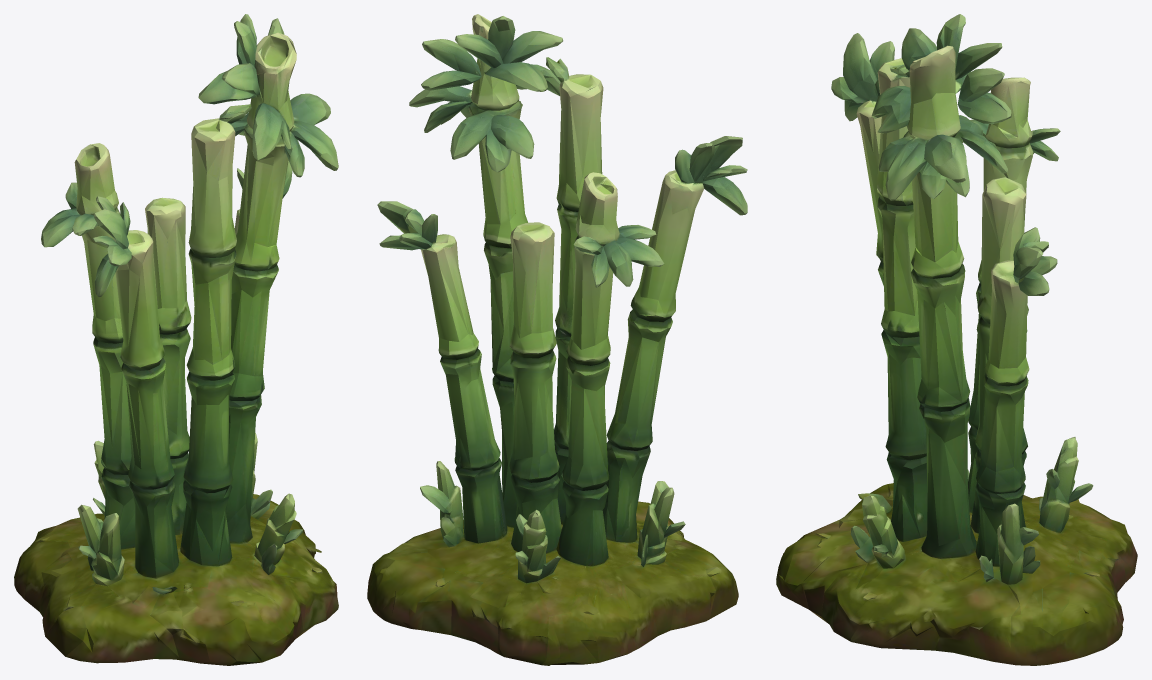
Rendered from bamboo.fbx.
3 views of the same model, side by side, from view 1: azimuth 30°, elevation 25°; view 2: azimuth 150°, elevation 25°; view 3: azimuth 270°, elevation 25° (orthographic). The views are drawn at different scales.
Visible parts, largest first — view 1: bamboo; view 2: bamboo; view 3: bamboo.
Boxes of the visible parts, x1,y1,x2,y2 form: bamboo: (14,14,338,665); bamboo: (367,14,747,665); bamboo: (776,14,1137,665).
Bounding box in the file's own units: 3.05 × 5.5 × 2.99.
